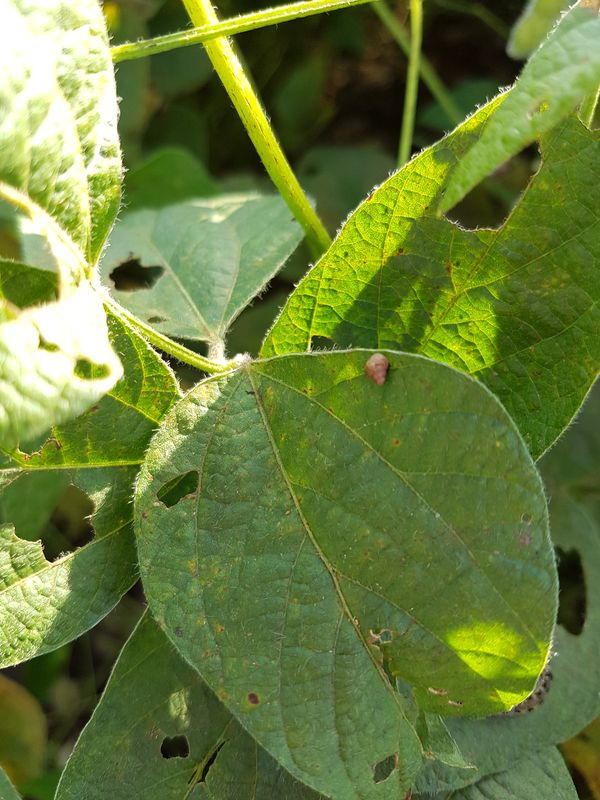Gastropoda: (352, 347, 402, 395)
Spodoptera_albula: (450, 649, 567, 725)
